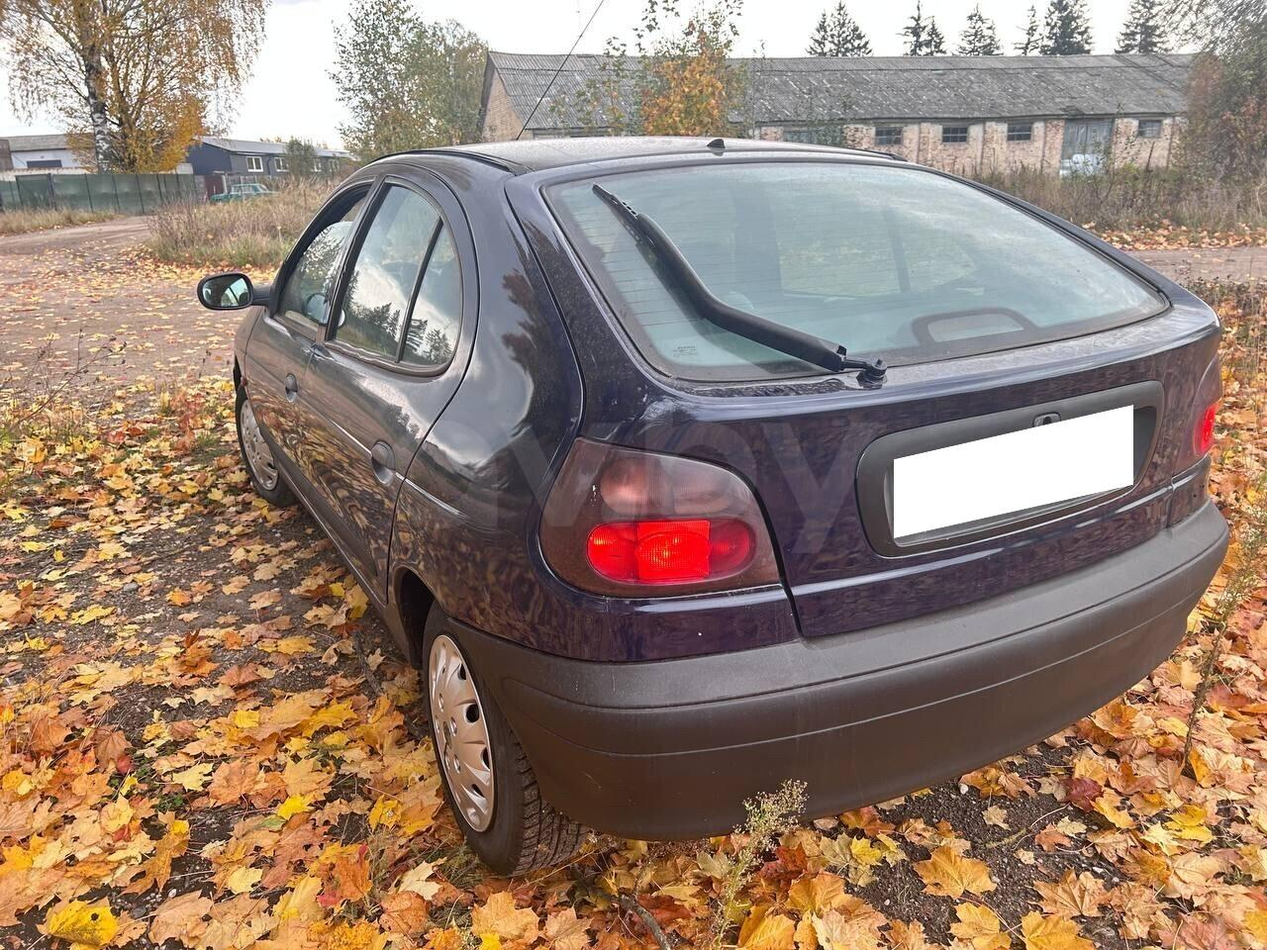Megane_1995-1999: (207, 145, 1235, 873)
